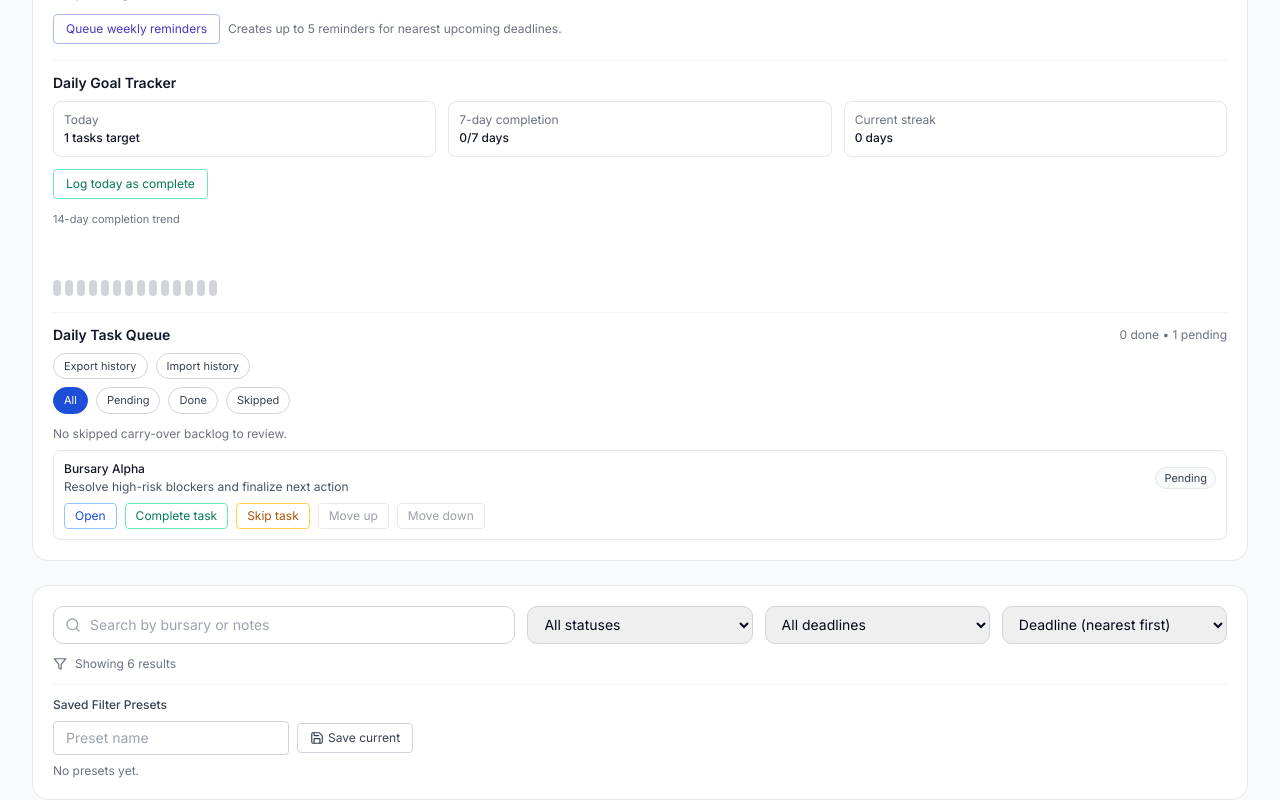
Test case: ApplicationTracker phase 2.5 interactions › filters daily task queue by status
(page scrolled)
Expected: the heading "Daily Task Queue" is shown, [53,324,170,344]
Click the button "Done". click: (193, 400)
box: [168,387,218,414]
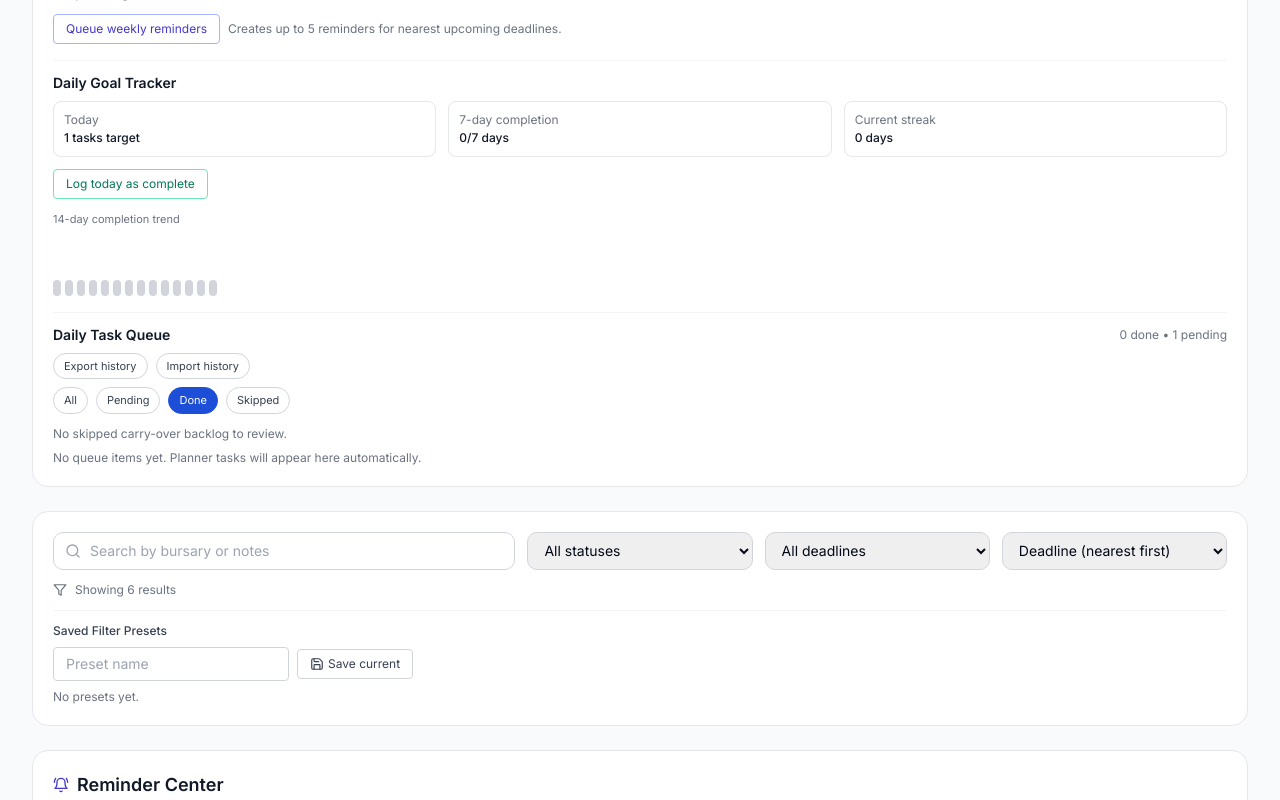
Expected: the heading "Daily Task Queue" is shown, [53,324,170,344]
Result: the button "Complete task" is gone
Click the button "Pending". click: (128, 400)
box: [96,387,160,414]
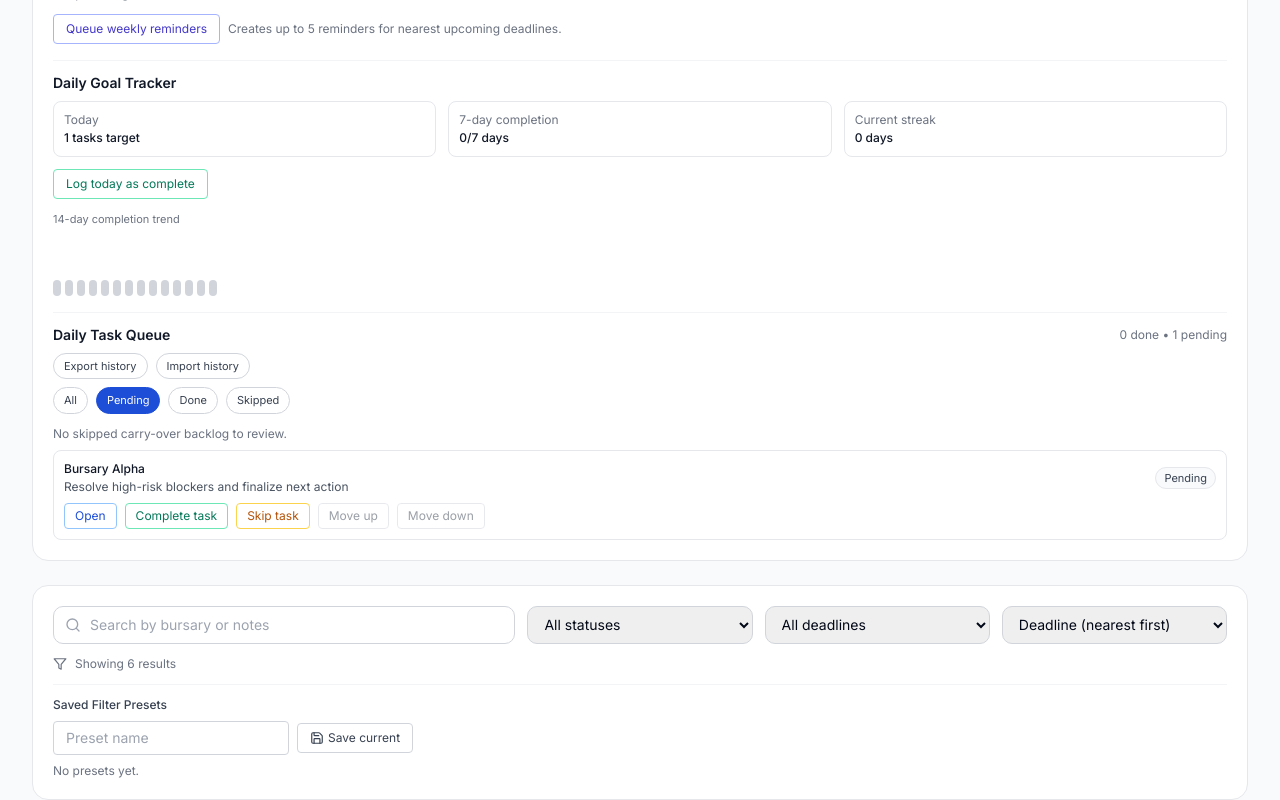
Result: the button "Complete task" is shown at [125,502,228,528]
